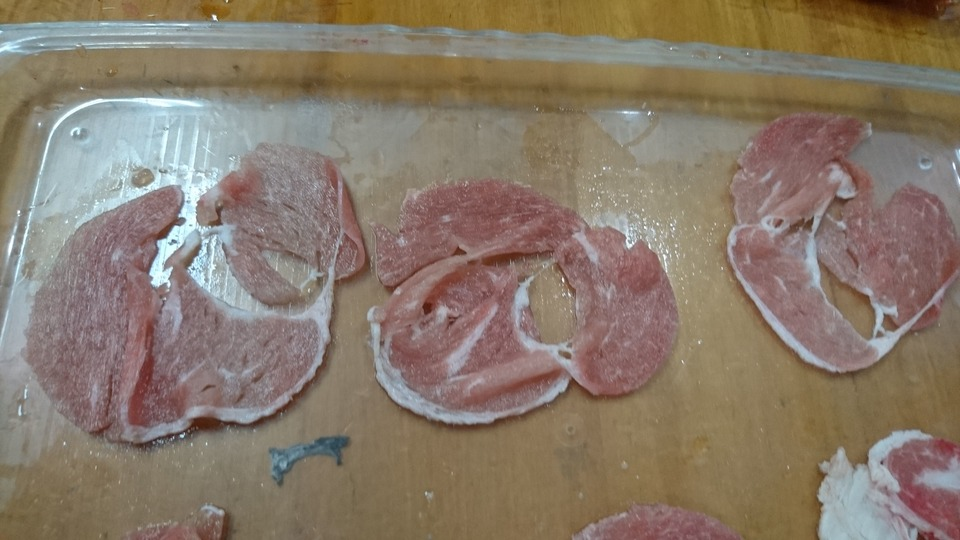restructured meat: (32, 147, 361, 456), (365, 159, 696, 415), (739, 97, 960, 387), (802, 408, 960, 539)
